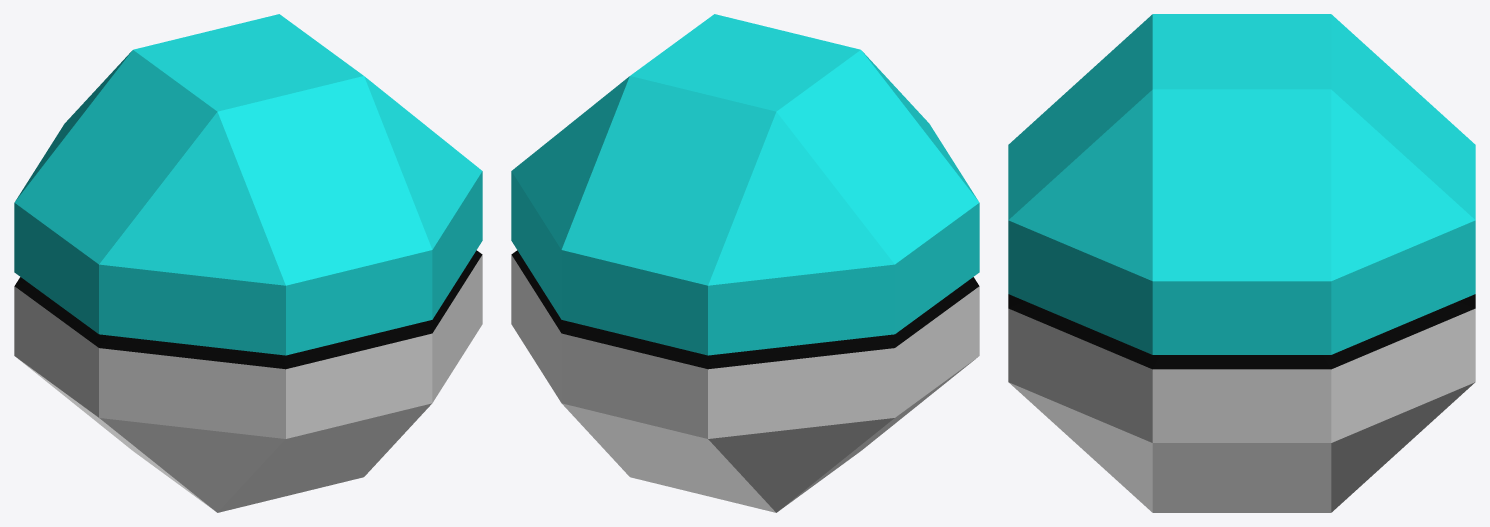
File: Waterball.fbx
3 views of the same model, side by side, from view 1: azimuth 30°, elevation 25°; view 2: azimuth 150°, elevation 25°; view 3: azimuth 270°, elevation 25° (orthographic). The views are drawn at different scales.
Parts seen in each view (by area): view 1: Cube.005; view 2: Cube.005; view 3: Cube.005.
Part boxes in pixels (x1=…): Cube.005: x1=14, y1=14, x2=482, y2=512; Cube.005: x1=511, y1=14, x2=979, y2=512; Cube.005: x1=1008, y1=14, x2=1475, y2=512.
Size of the model in its own units: 200 by 200 by 200.
